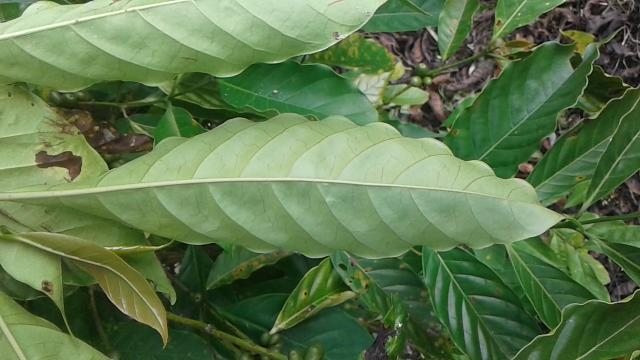healthy: (15, 107, 580, 264)
